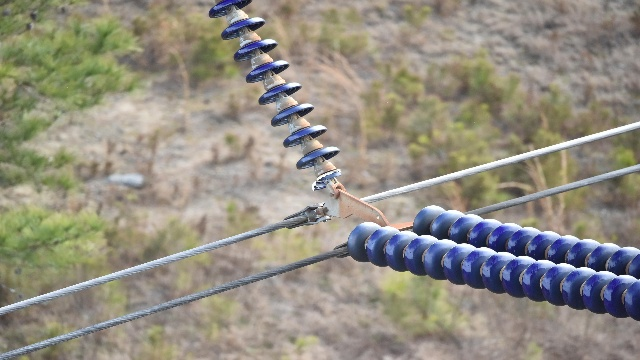broken_local: (310, 167, 341, 191)
insulator_unspecified: (347, 205, 639, 321), (208, 0, 345, 191)
